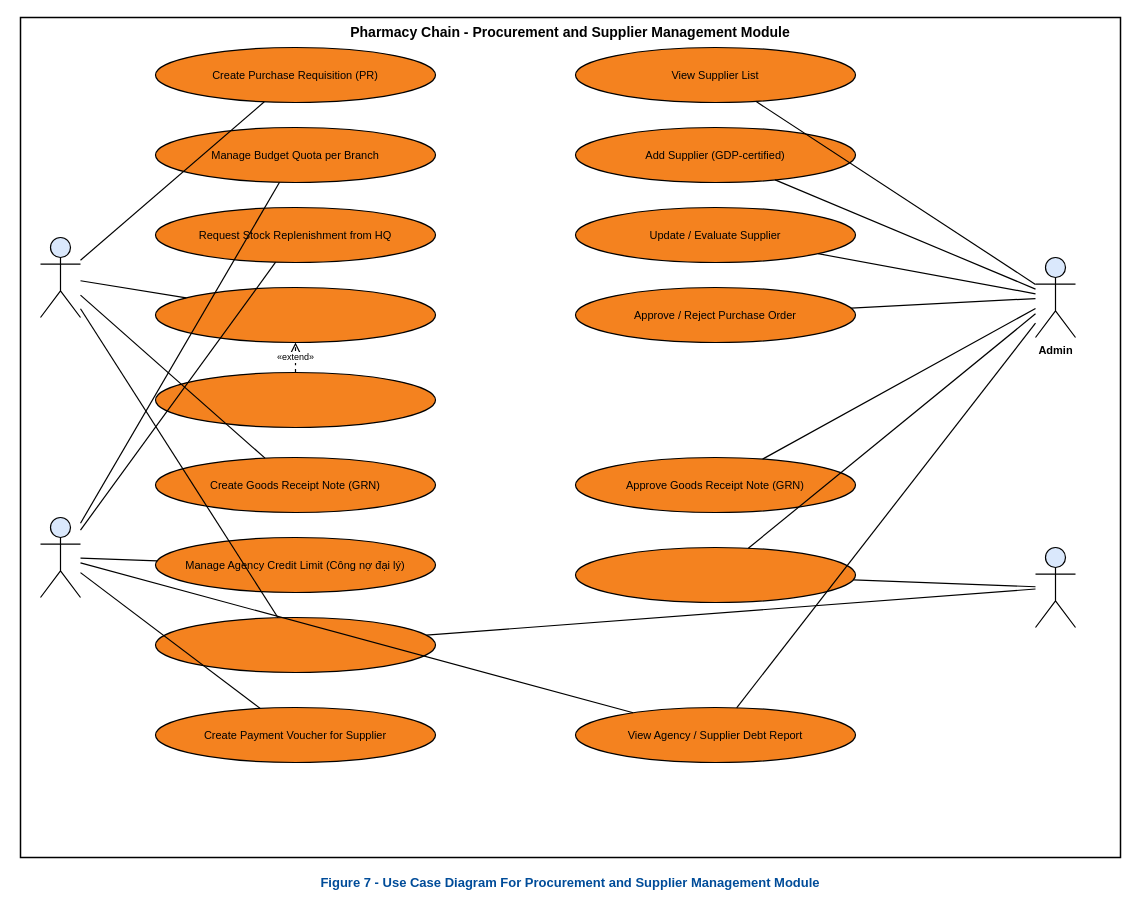
Some shapes in this 1139 by 915 pixel diagram are drawn without their labels. Here are the shapes that lost their labels. From the top down, the centre of each, then its label:
At (60,277): "Warehouse Staff".
At (295,314): "Auto-create PO from AI Forecast (Draft)".
At (295,399): "AI Suggests Best-Price Supplier".
At (60,557): "Branch Manager".
At (715,574): "Manage Supplier Contracts & Terms".
At (1055,587): "Supplier".
At (295,644): "Send RFQ (Request for Quotation) to Suppliers".
